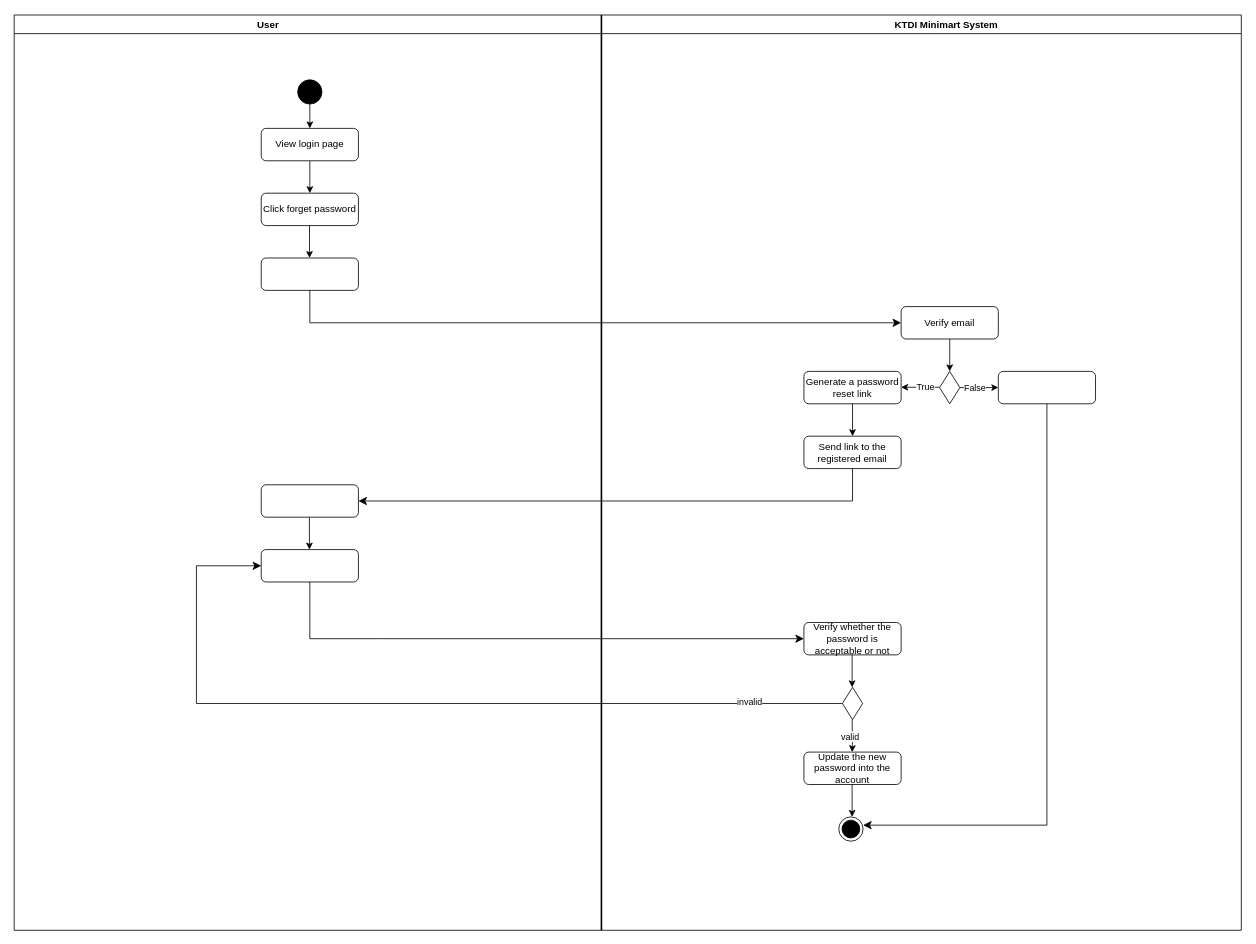
The diagram is 1256 pixels wide and 944 high, and some of its shapes have lost their labels. The shapes that lost their labels are listed below. From the top down, each one's centre as x and y in pixels, then its label:
(309,273): Enter registered email
(1047,387): Display error mesage
(309,500): Click the password reset link
(309,565): Enter new password
